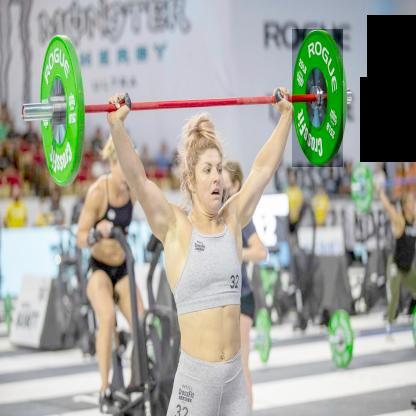barbell: (293, 30, 344, 168), (41, 35, 81, 189)
